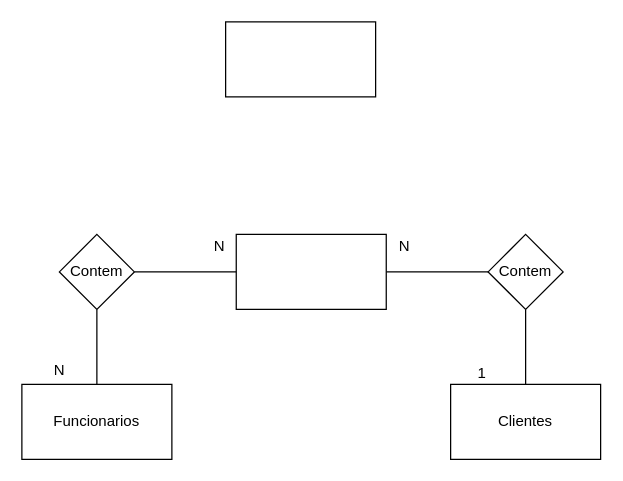
This 623x481 diagram has some shape labels left out. Each missing label, with the centre of its shape:
"CONCEITUAL" goes at (300,59).
"Serviços" goes at (310,271).
